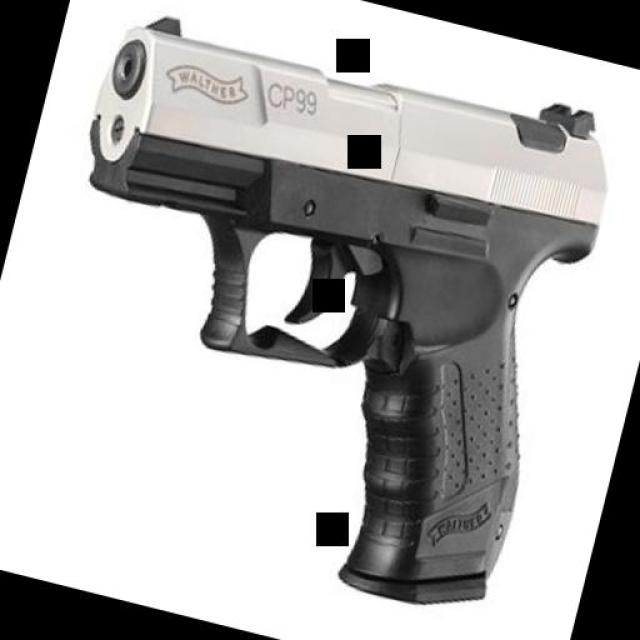gun: (0, 0, 628, 629)
